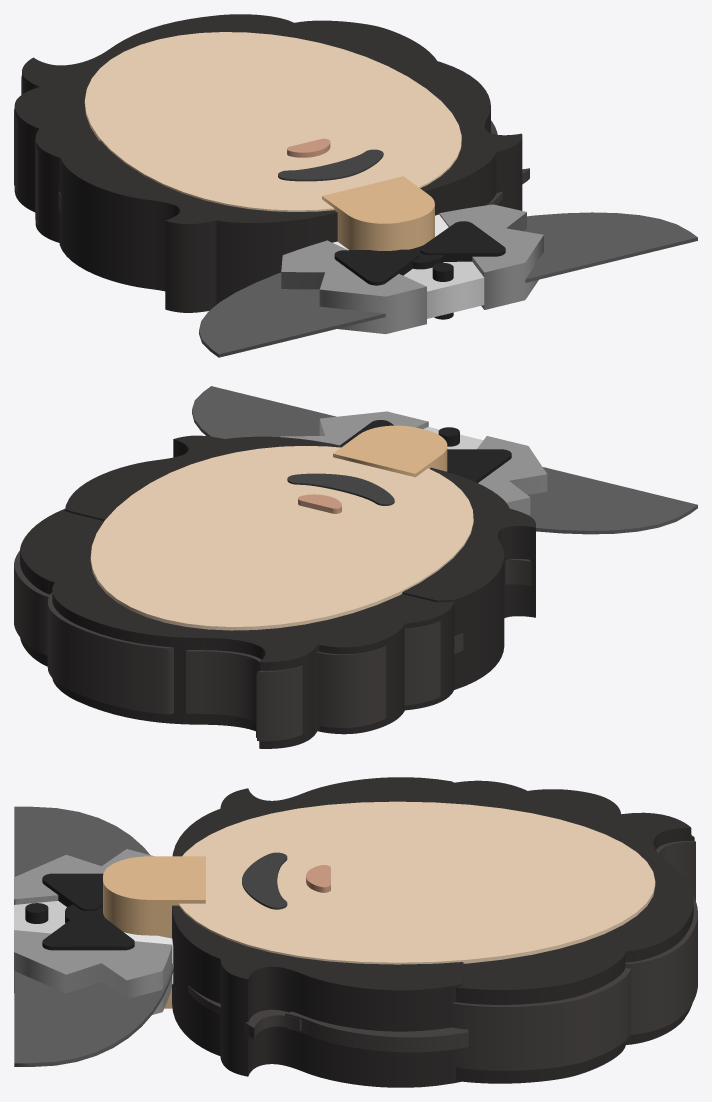
The model's file is emoji_u1f935_1f3fb.glb.
The picture shows the model from 3 angles, top to bottom: view 1: azimuth 30°, elevation 25°; view 2: azimuth 150°, elevation 25°; view 3: azimuth 270°, elevation 25°; orthographic projection. The views are drawn at different scales.
Parts seen in each view (by area): view 1: emoji_u1f935_1f3fb; view 2: emoji_u1f935_1f3fb; view 3: emoji_u1f935_1f3fb.
Part boxes in pixels (x1,y1,x2,y2): emoji_u1f935_1f3fb: (14, 14, 697, 357); emoji_u1f935_1f3fb: (14, 386, 697, 748); emoji_u1f935_1f3fb: (14, 777, 697, 1087).
Bounding box in the file's own units: 0.0294 × 0.006 × 0.0331.
